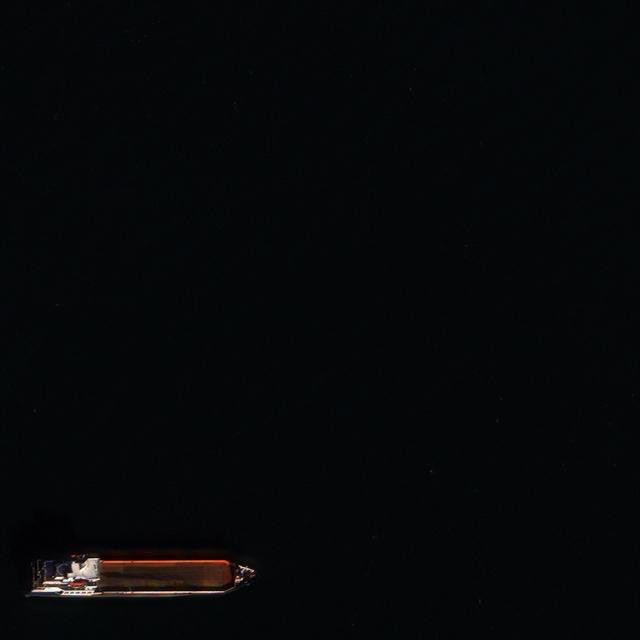Container Ship: (23, 553, 259, 598)
